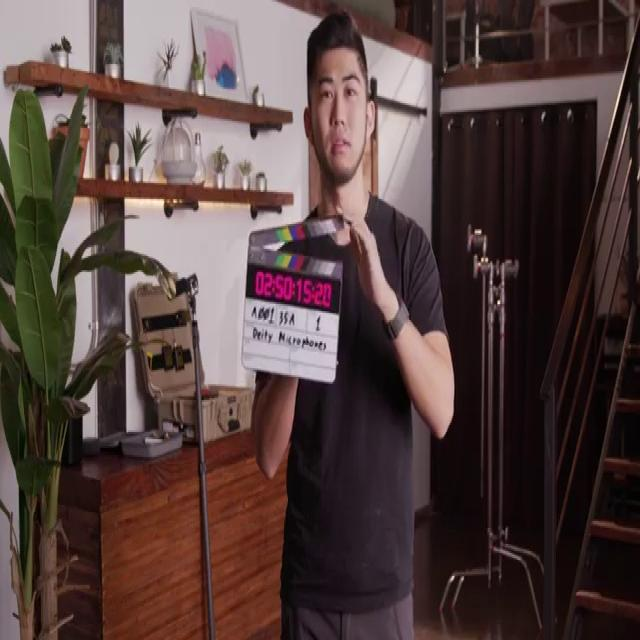Clapperboard: (244, 213, 345, 384)
